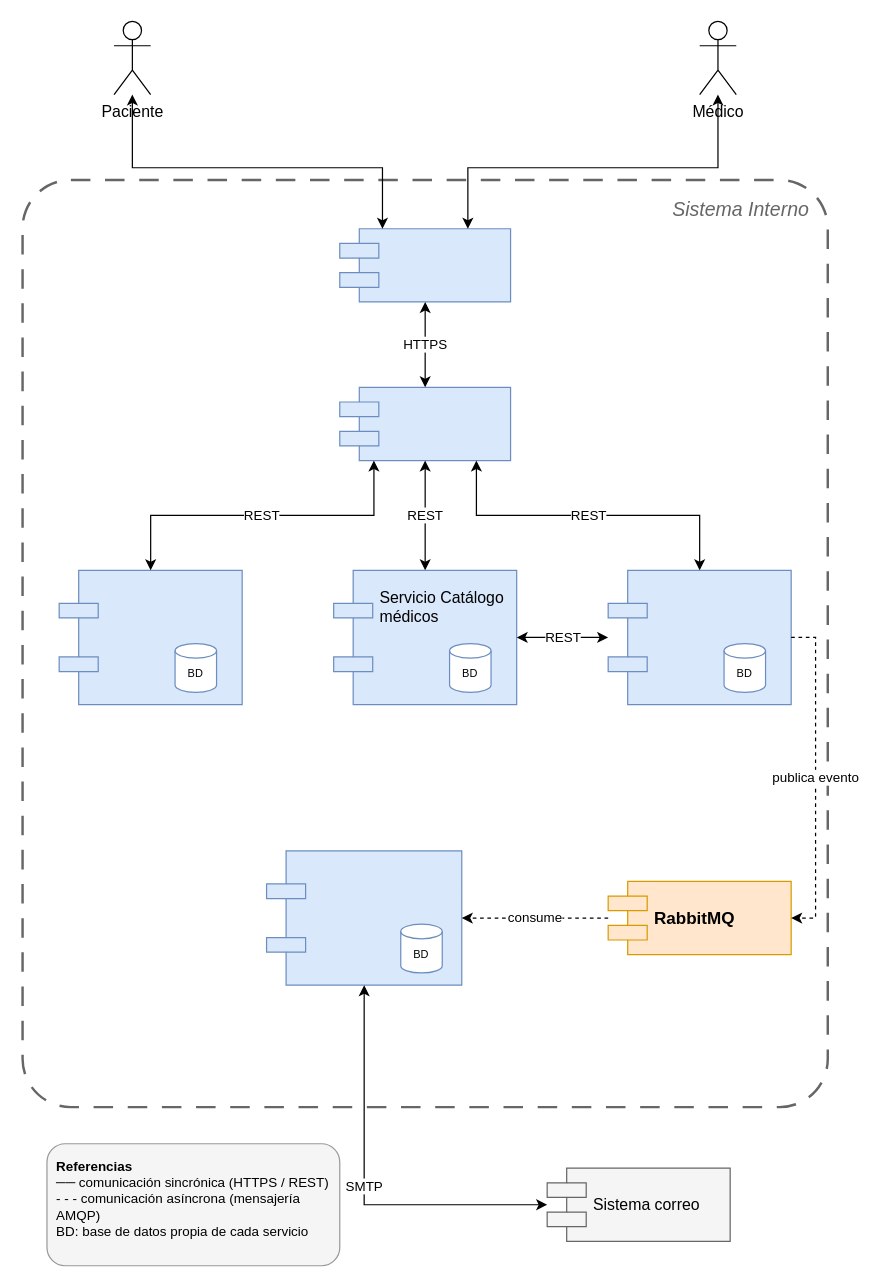
Some shapes in this 880 by 1287 pixel diagram are drawn without their labels. The box of each missing label's shape, as (x1, y1, x2, y2) in pixels:
API Gateway: (339, 386, 511, 461)
Cliente web: (339, 228, 511, 302)
Servicio Notificaciones: (265, 850, 462, 985)
Servicio Reservas: (607, 569, 791, 705)
Servicio Usuarios & Auth: (58, 569, 242, 705)
